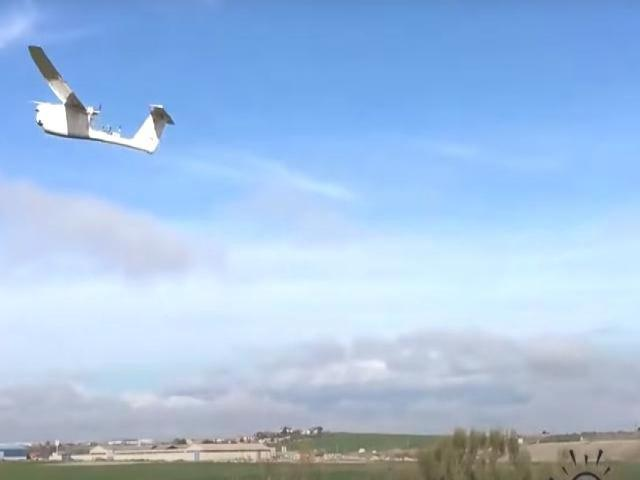iha: (17, 41, 180, 163)
